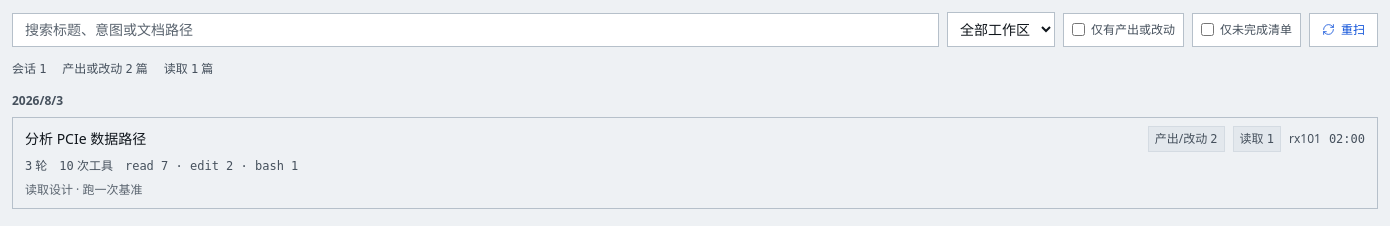
SessionsPanel › reports when a filter matches nothing instead of showing a blank list
Check: the text "分析 PCIe 数据路径" is shown, box [25,129,146,148]
Step 1. Type "不存在的东西" into the search field named "搜索会话" → (476, 30), box [12,12,939,46]
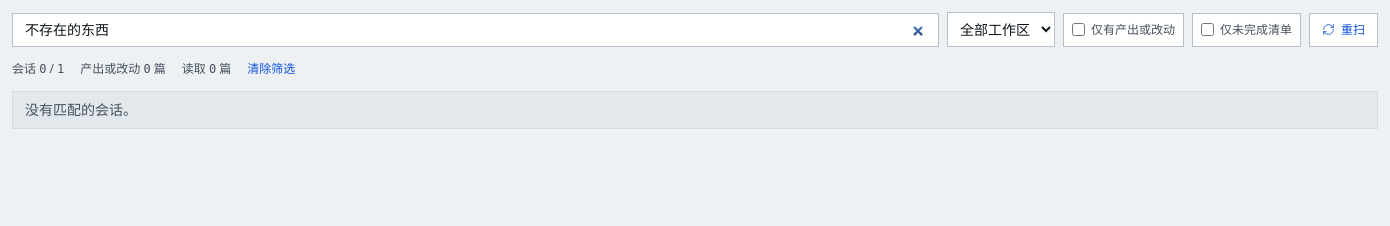
Check: the text "没有匹配的会话。" is shown, box [12,91,1378,129]
